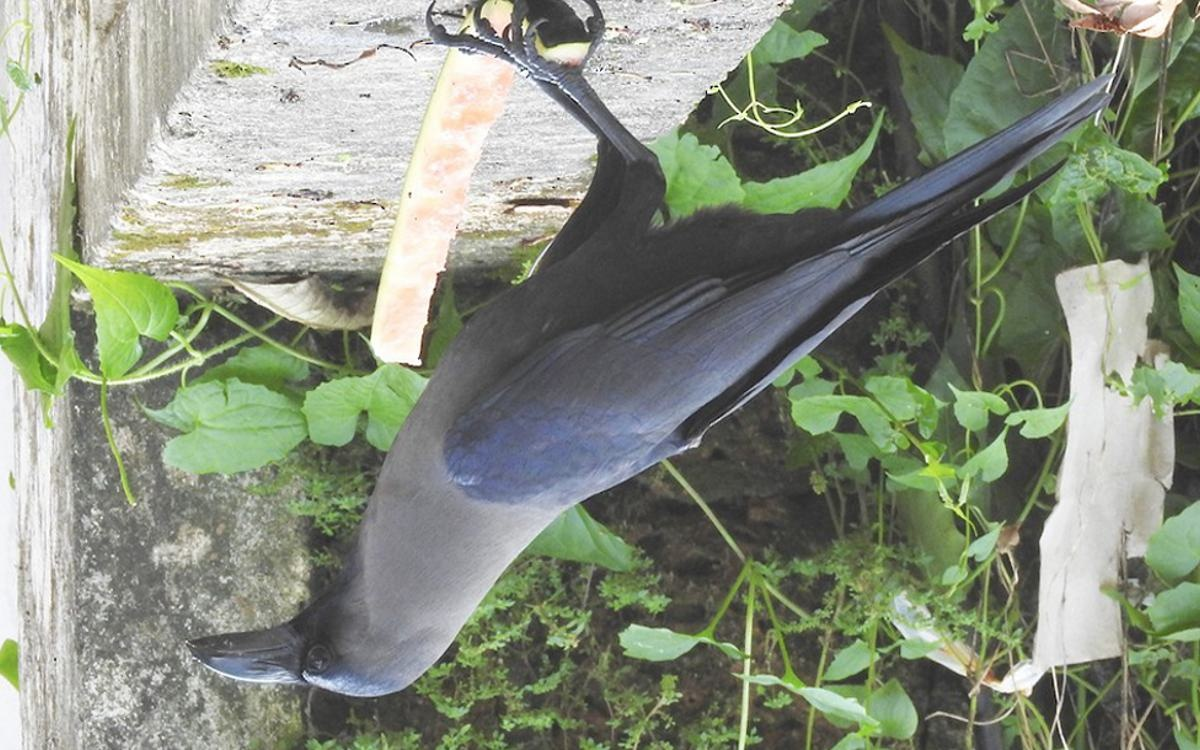crow: (179, 24, 1109, 704)
